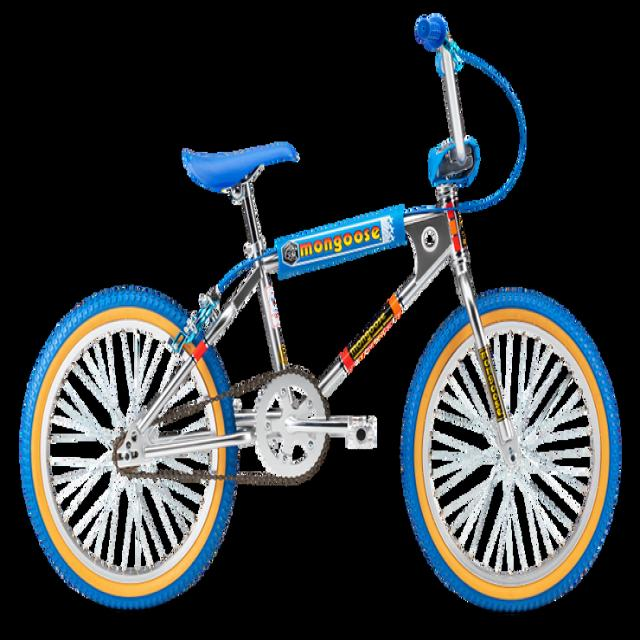bmx-bike: (18, 14, 623, 618)
